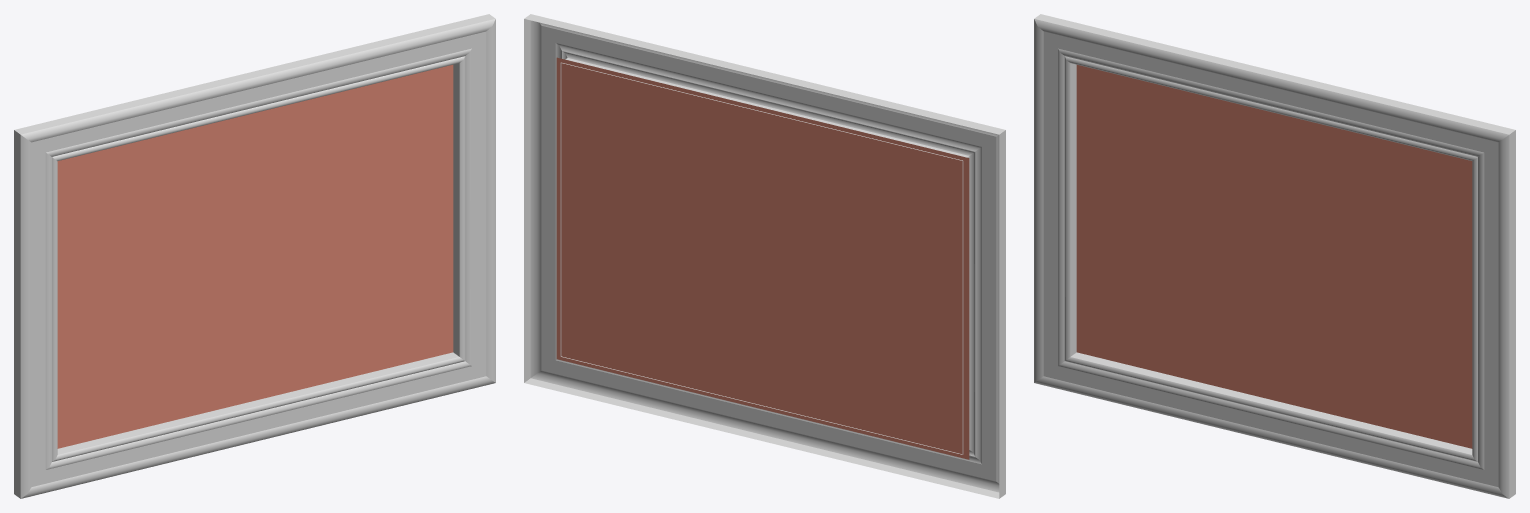
The model's file is SM_Props_Decor_07.fbx.
3 renders of one model, left to right at view 1: azimuth 30°, elevation 25°; view 2: azimuth 150°, elevation 25°; view 3: azimuth 330°, elevation 25°, orthographic.
Visible parts, largest first — view 1: SM_Props_Decor_07; view 2: SM_Props_Decor_07; view 3: SM_Props_Decor_07.
Part boxes in pixels (box(x1,y1,x2,y2)): SM_Props_Decor_07: box(14, 14, 495, 498); SM_Props_Decor_07: box(524, 14, 1005, 498); SM_Props_Decor_07: box(1034, 14, 1515, 498).
Size of the model in its own units: 274 by 201 by 8.23.
